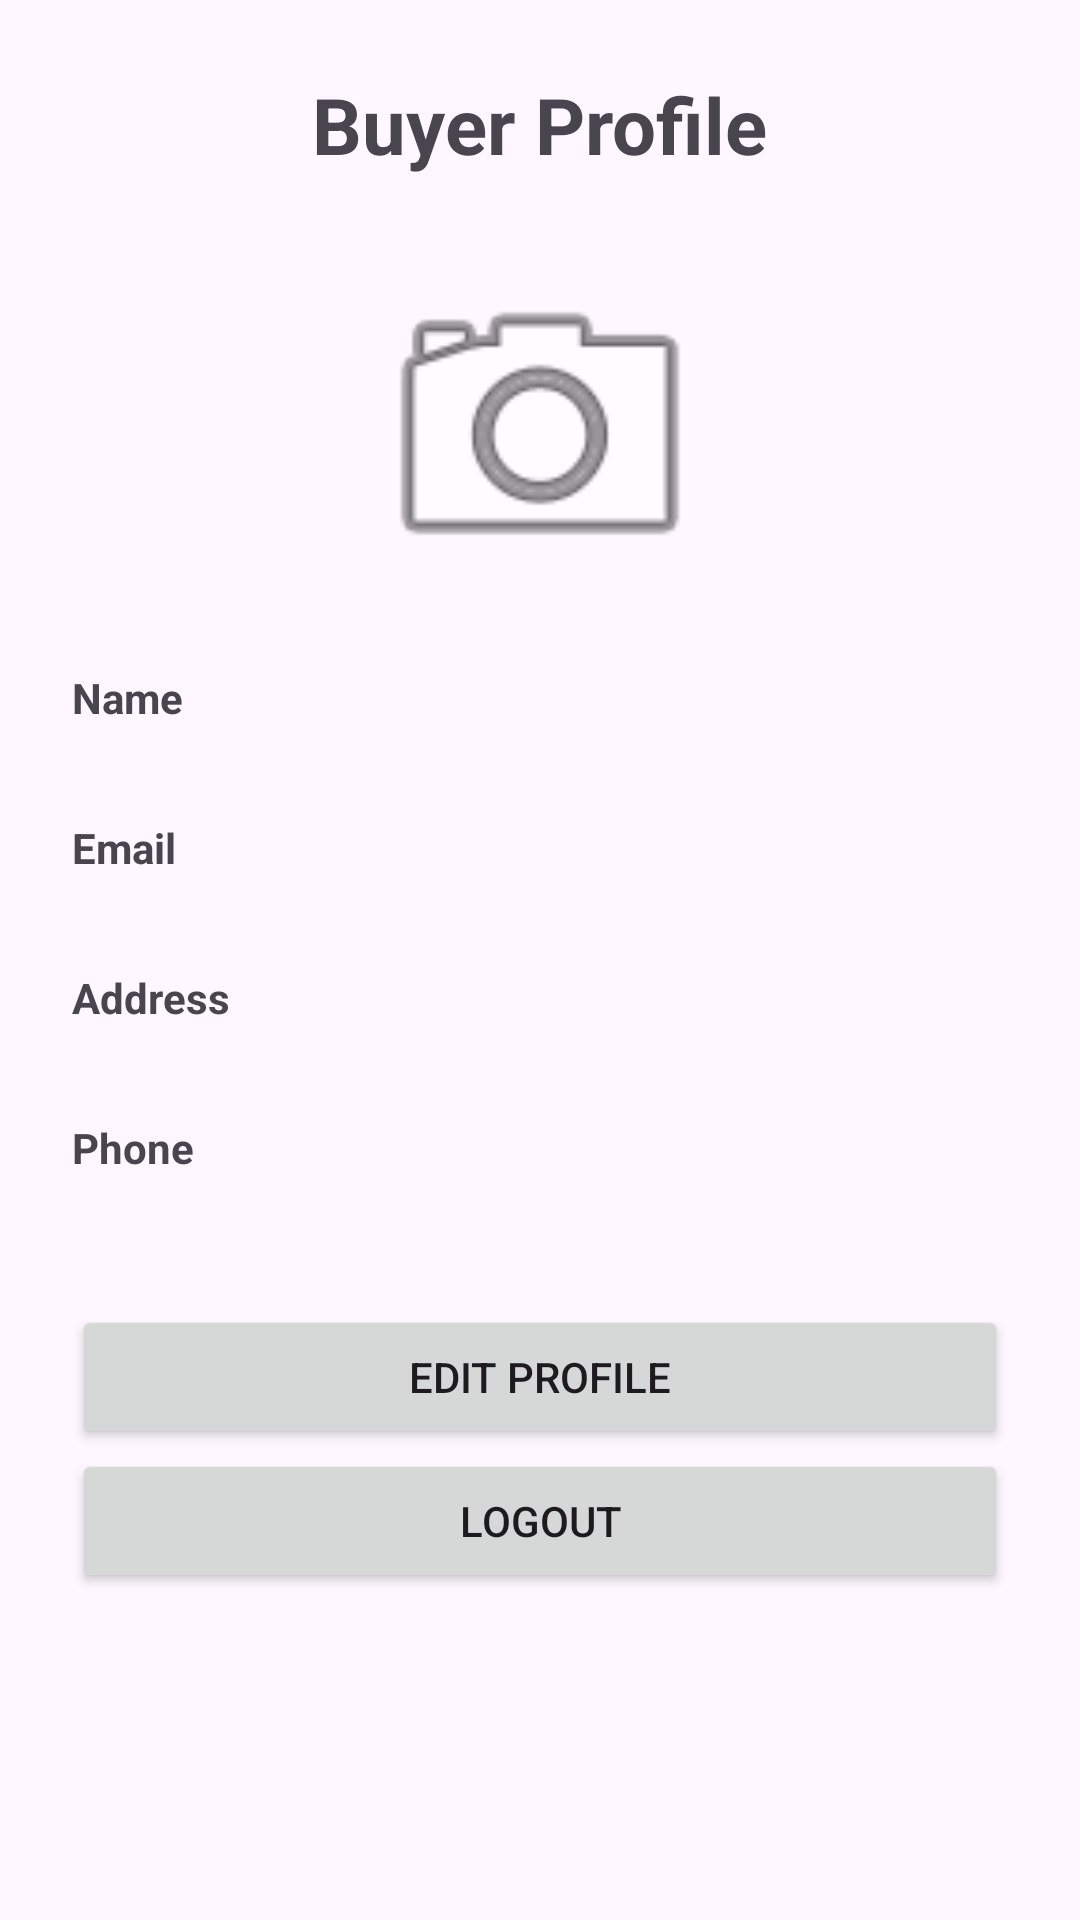

Where to tap for icons on this 1080 x 1920 app screen, as (x=x, y=y):
Tap to change profile picture: (x=540, y=423)
